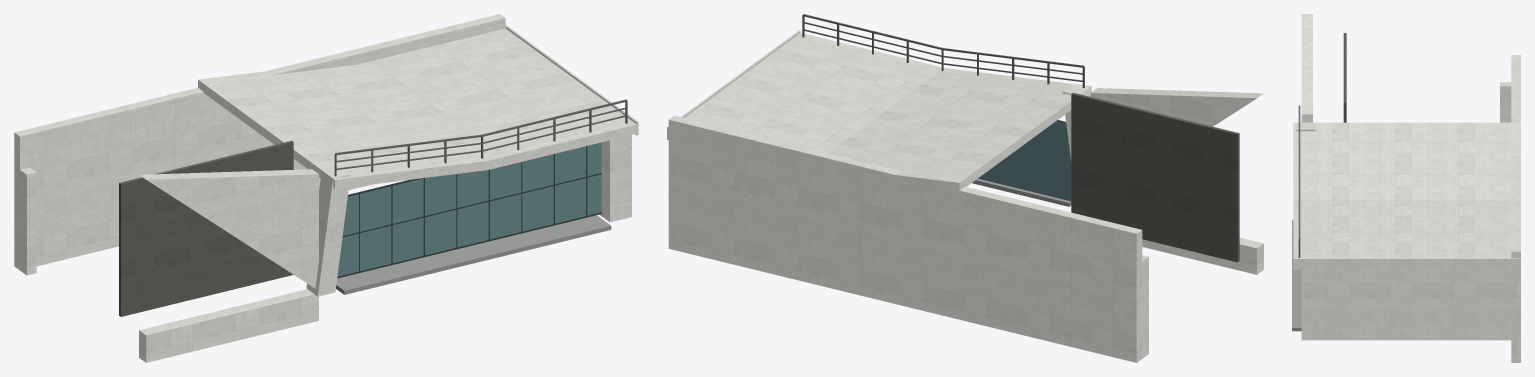
The picture shows the model from 3 angles, left to right: view 1: azimuth 30°, elevation 25°; view 2: azimuth 150°, elevation 25°; view 3: azimuth 270°, elevation 25°; orthographic projection. The views are drawn at different scales.
Visible parts, largest first — view 1: w451575563__concrete-wall, w451575563__glass-cyan, w451575563__recess-stone, w451575563__threshold, w451575563__rail, w451575563__frame; view 2: w451575563__concrete-wall, w451575563__recess-stone, w451575563__glass-cyan, w451575563__rail, w451575563__threshold; view 3: w451575563__concrete-wall, w451575563__threshold, w451575563__rail, w451575563__recess-stone.
Part boxes in pixels (<box>): w451575563__concrete-wall: <box>14,14,638,362</box>; w451575563__glass-cyan: <box>337,142,601,276</box>; w451575563__recess-stone: <box>119,141,293,316</box>; w451575563__threshold: <box>336,215,611,294</box>; w451575563__rail: <box>334,99,627,176</box>; w451575563__frame: <box>337,146,601,278</box>; w451575563__concrete-wall: <box>667,30,1263,362</box>; w451575563__recess-stone: <box>1071,92,1239,262</box>; w451575563__glass-cyan: <box>978,120,1071,201</box>; w451575563__rail: <box>802,14,1084,88</box>; w451575563__threshold: <box>972,178,1071,206</box>; w451575563__concrete-wall: <box>1293,14,1520,362</box>; w451575563__threshold: <box>1292,219,1301,331</box>; w451575563__rail: <box>1298,105,1300,257</box>; w451575563__recess-stone: <box>1343,33,1346,122</box>.
Bounding box in the file's own units: 22.28 × 8 × 10.9.
Materials: 6 (2 with a texture image).
